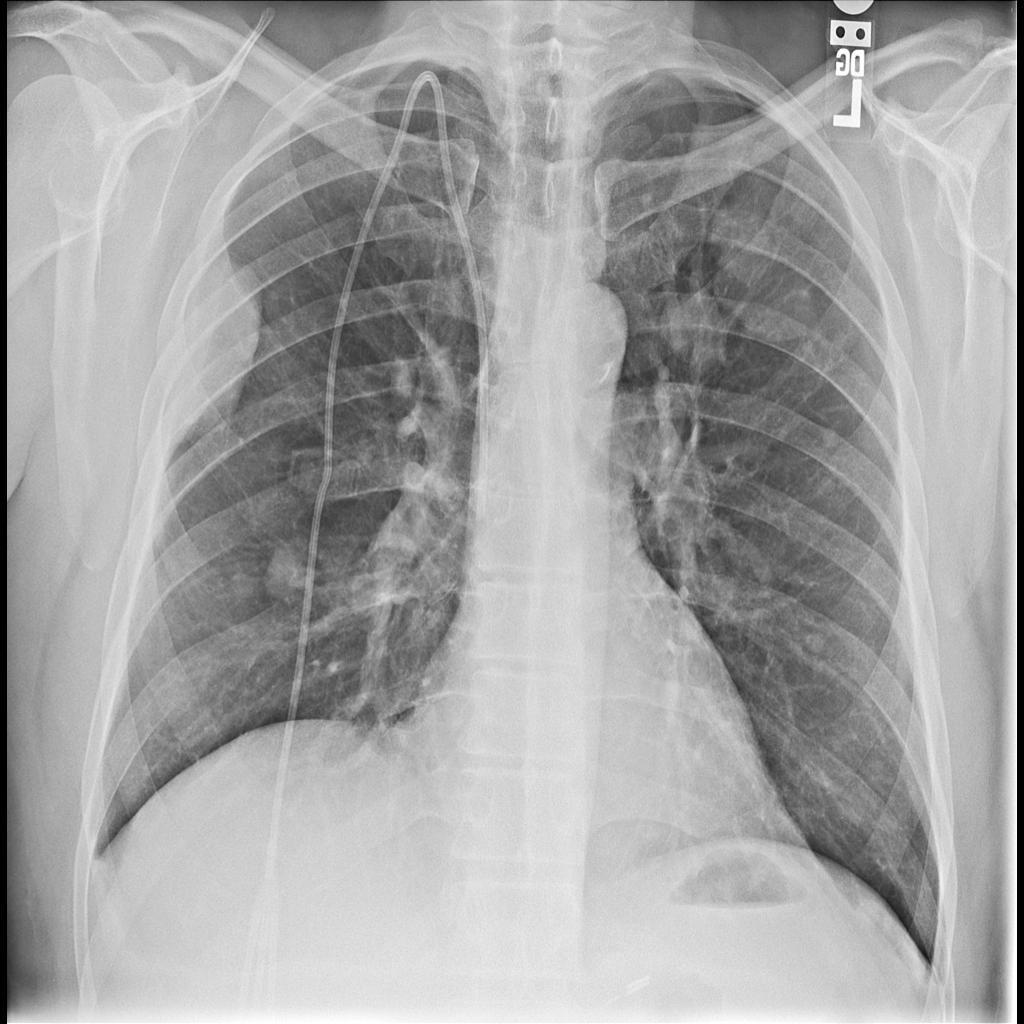Nodule: (718, 207, 825, 345), (664, 279, 736, 365), (259, 525, 326, 603)
